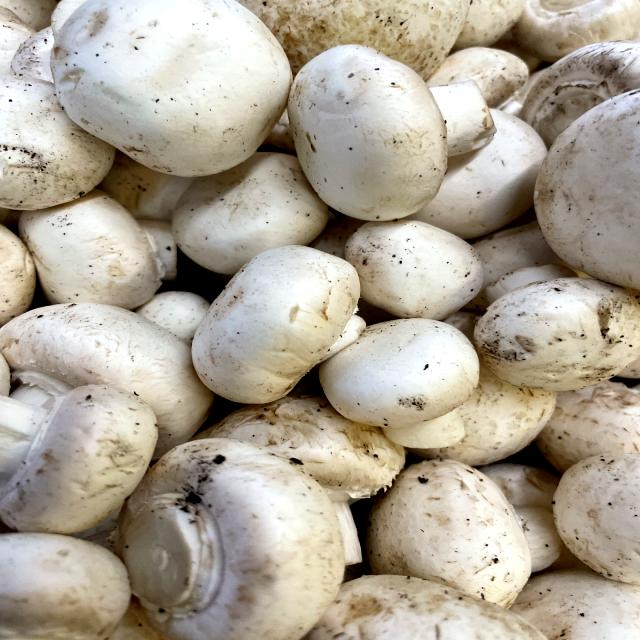mushroom: (115, 428, 366, 640), (287, 35, 500, 226), (173, 237, 380, 409), (312, 309, 496, 456), (470, 258, 640, 400)
